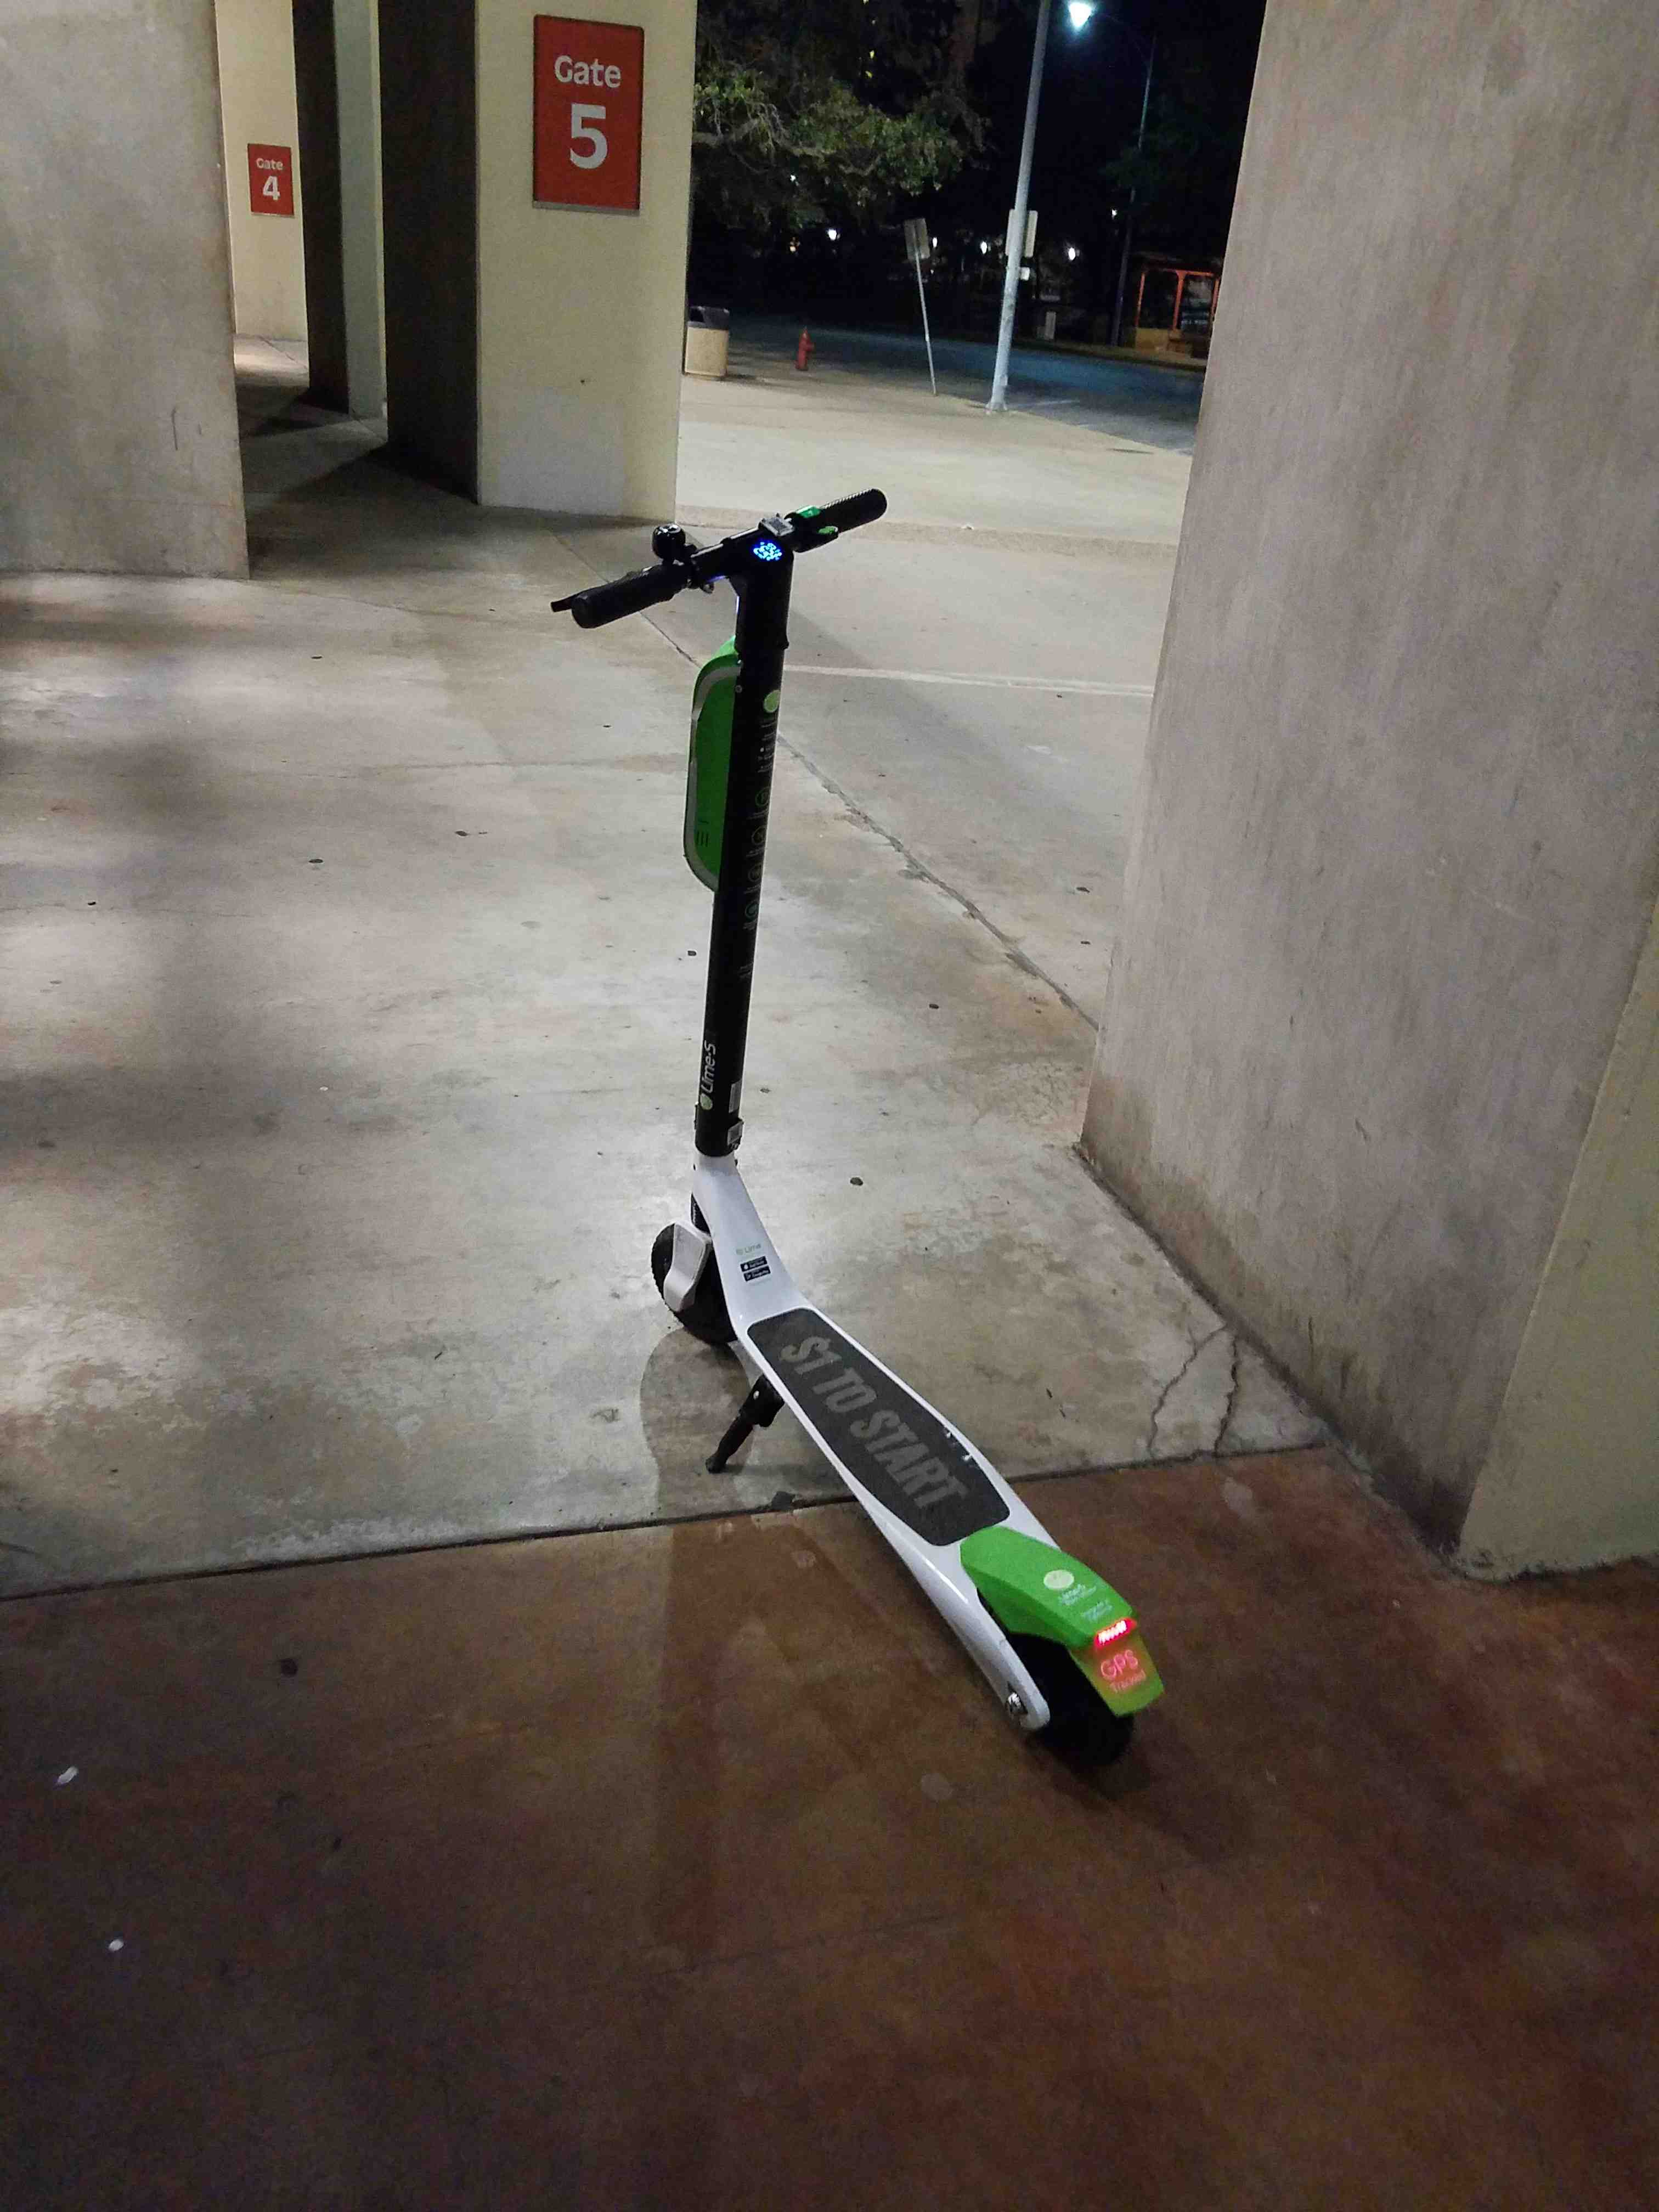scooter: (558, 451, 1220, 1775)
